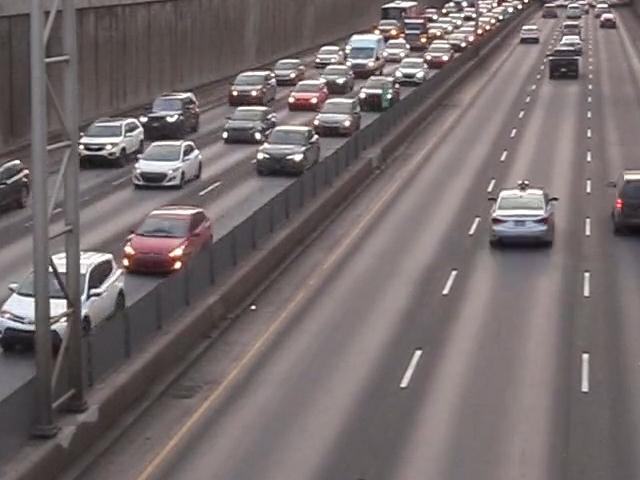car: (0, 251, 126, 354), (108, 198, 217, 278), (495, 185, 560, 248), (135, 130, 208, 185), (83, 112, 147, 165), (260, 123, 322, 177), (141, 91, 201, 139), (608, 161, 640, 243), (0, 154, 31, 231), (221, 106, 278, 143), (313, 96, 362, 136), (228, 71, 277, 107), (286, 79, 332, 112), (355, 77, 397, 112), (319, 65, 356, 96), (270, 58, 308, 87), (394, 58, 430, 86), (314, 45, 347, 69), (424, 45, 457, 68), (558, 28, 584, 53), (519, 23, 541, 44), (564, 3, 588, 21), (598, 12, 617, 29)
pickup-truck: (545, 48, 581, 80)
van: (347, 33, 384, 75)
